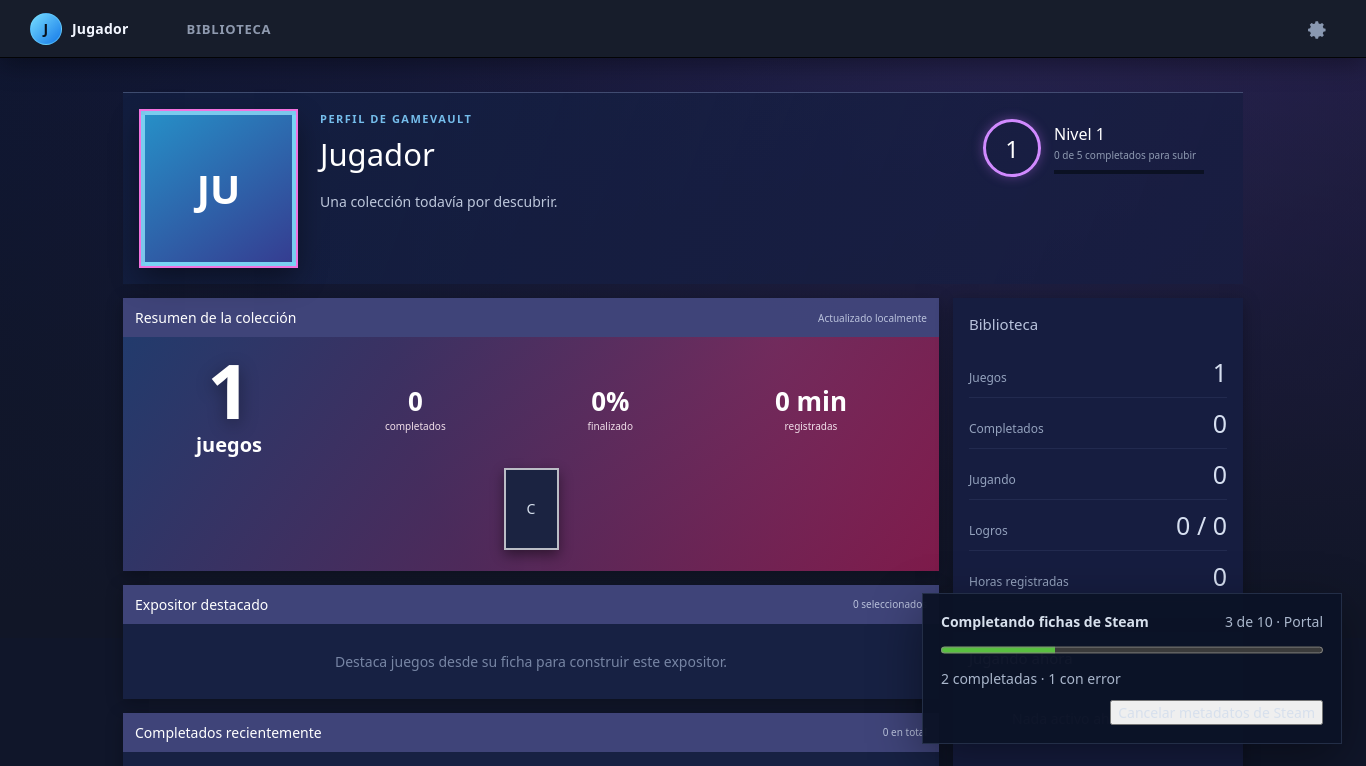
Test: critical library flows › shows Steam metadata progress globally and lets the user cancel it
Check: the message shows "Portal", box [1273,612,1323,631]
Check: the progress indicator named "Progreso de metadatos de Steam" holds "3", box [941,643,1323,657]
Click the button "Cancelar metadatos de Steam" at (1217, 712), box [1110,700,1323,725]
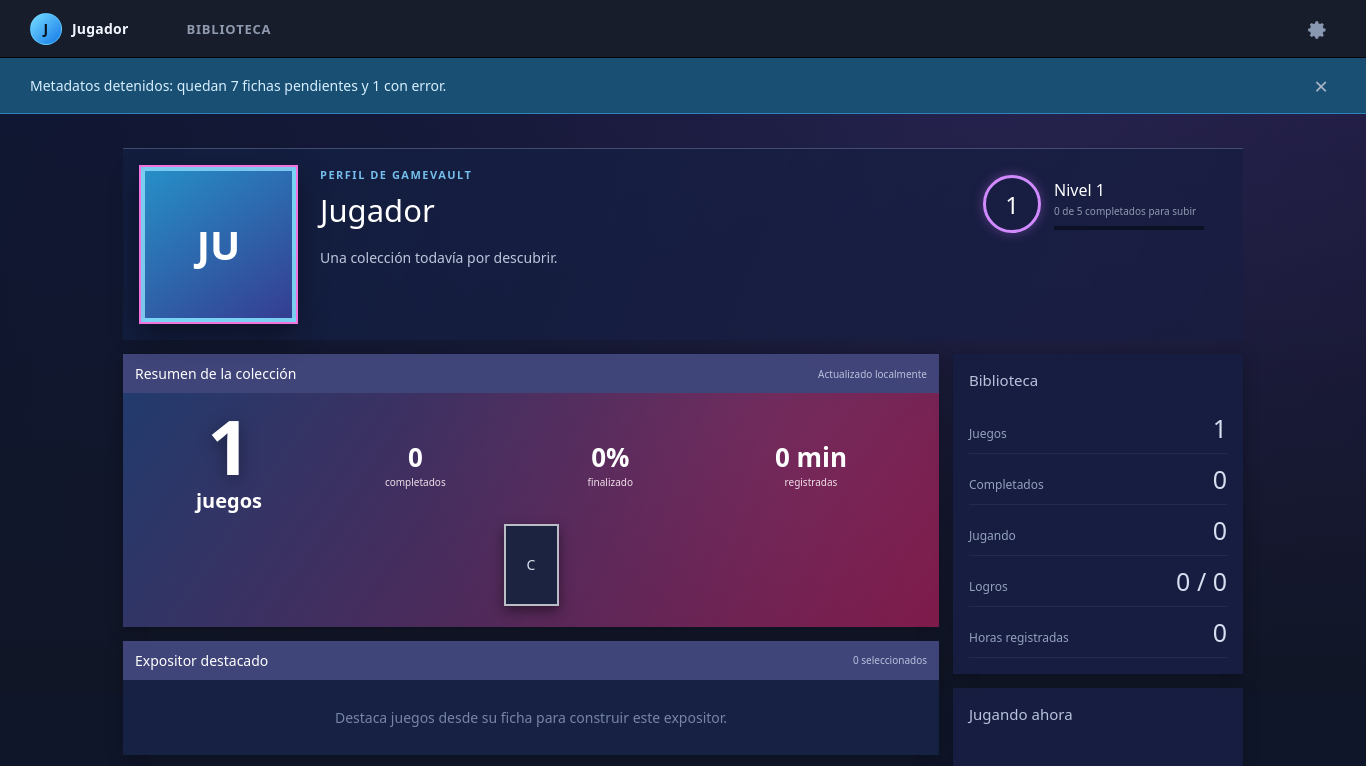
Check: the message shows "quedan 7 fichas pendientes", box [30,76,446,95]
